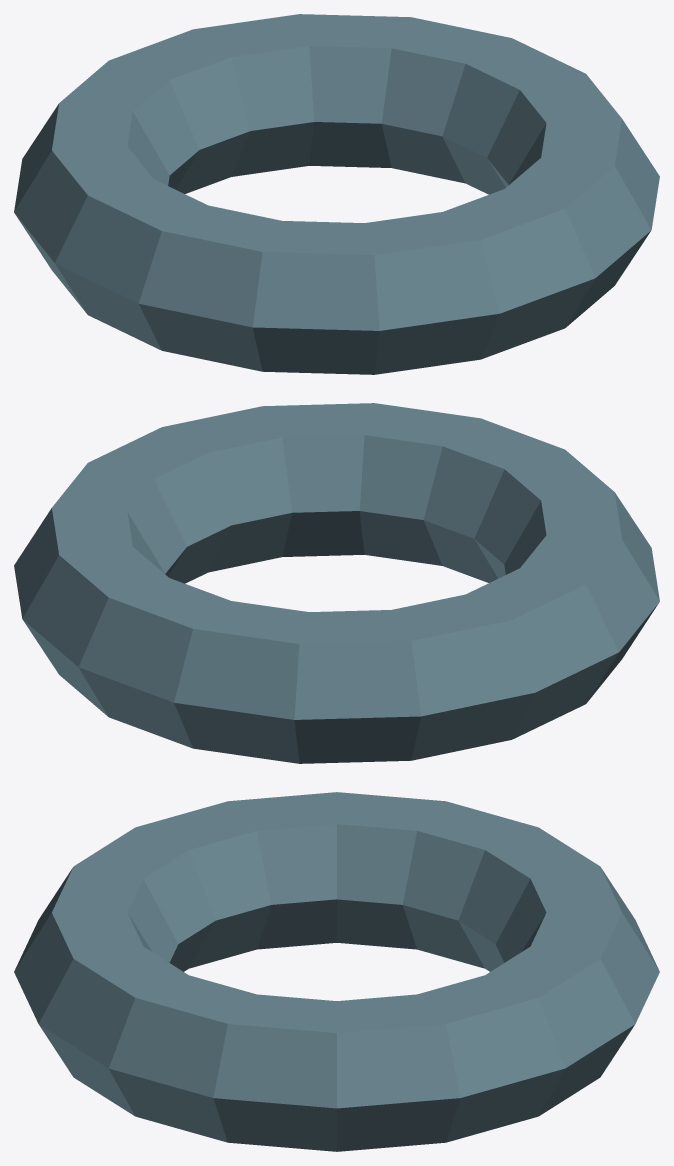
Rendered from chain_link.glb.
The picture shows the model from 3 angles, top to bottom: view 1: azimuth 30°, elevation 25°; view 2: azimuth 150°, elevation 25°; view 3: azimuth 270°, elevation 25°; orthographic projection.
Parts seen in each view (by area): view 1: chain_link_Deep_ocean_rubber; view 2: chain_link_Deep_ocean_rubber; view 3: chain_link_Deep_ocean_rubber.
Boxes of the visible parts, box(x1,y1,x2,y2) form: chain_link_Deep_ocean_rubber: box(14, 14, 659, 374); chain_link_Deep_ocean_rubber: box(14, 403, 659, 763); chain_link_Deep_ocean_rubber: box(14, 792, 659, 1151).
Bounding box in the file's own units: 0.222 × 0.045 × 0.222.
